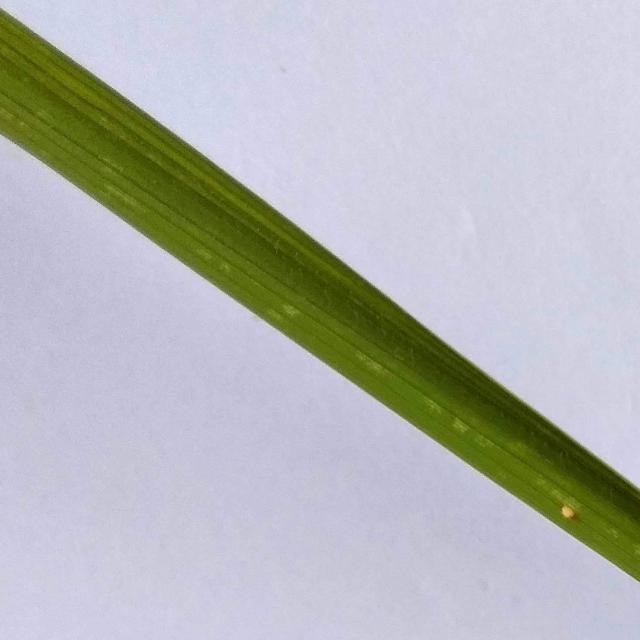Blast: (556, 501, 580, 523)
